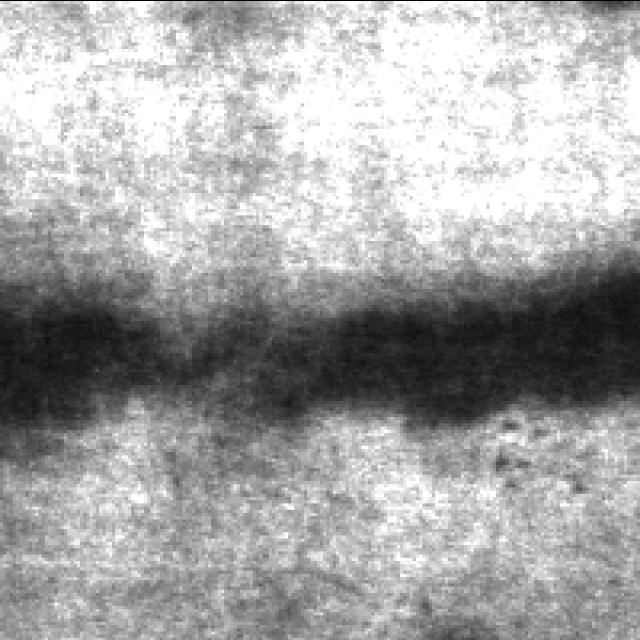patches: (0, 235, 640, 470)
